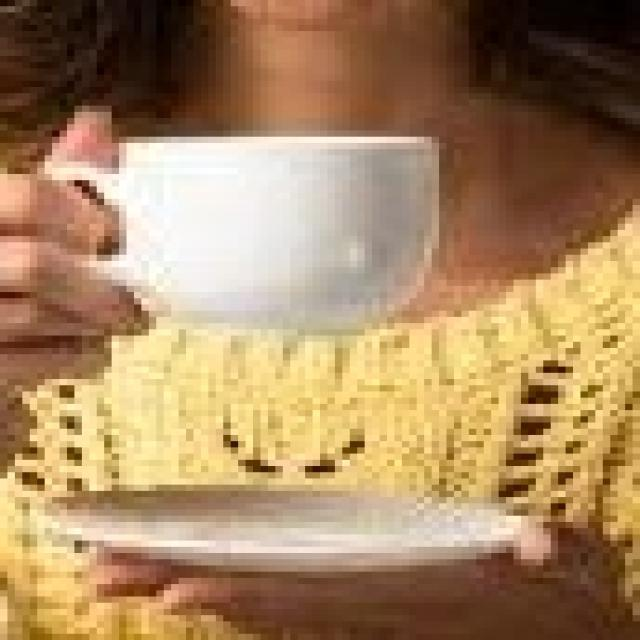taza: (35, 120, 454, 348)
